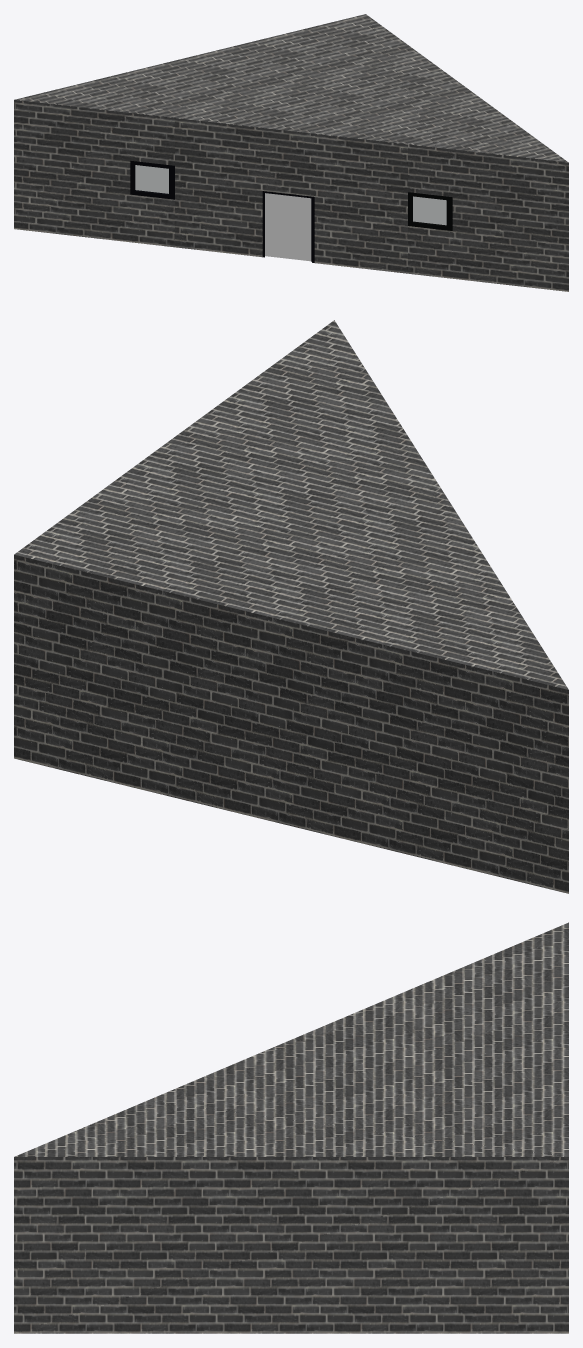
The model's file is Planta Baja.fbx.
3 renders of one model, top to bottom at view 1: azimuth 30°, elevation 25°; view 2: azimuth 150°, elevation 25°; view 3: azimuth 270°, elevation 25°, orthographic. The views are drawn at different scales.
Parts seen in each view (by area): view 1: building_005.001; view 2: building_005.001; view 3: building_005.001.
Boxes of the visible parts, box(x1,y1,x2,y2) form: building_005.001: box(14, 14, 568, 291); building_005.001: box(14, 320, 568, 893); building_005.001: box(14, 922, 568, 1333).
Size of the model in its own units: 1000 by 351 by 1000.
2 materials, 2 textured.
